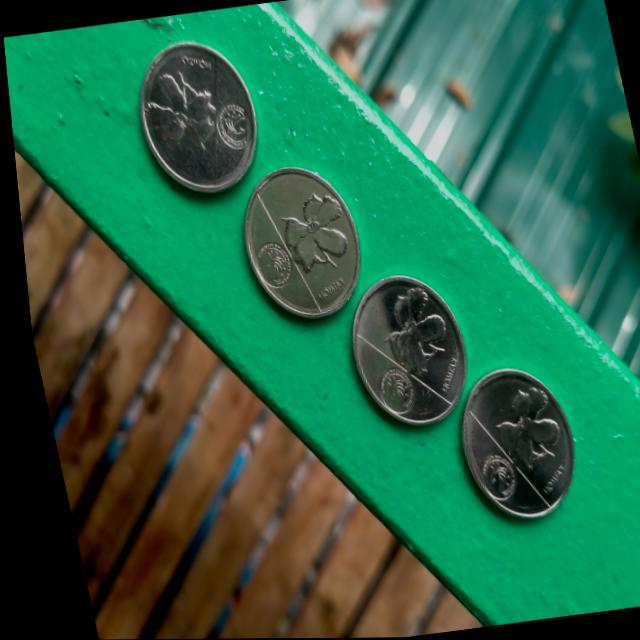25Cent_New_Back: (233, 182, 356, 305), (453, 382, 566, 506)
